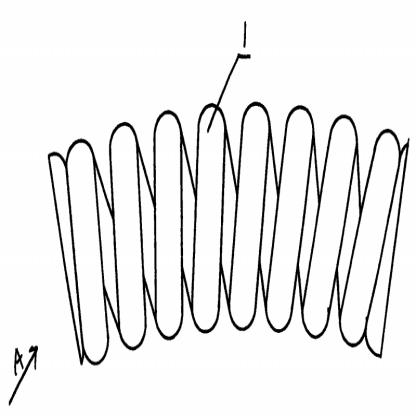FOD: (43, 99, 411, 369)
